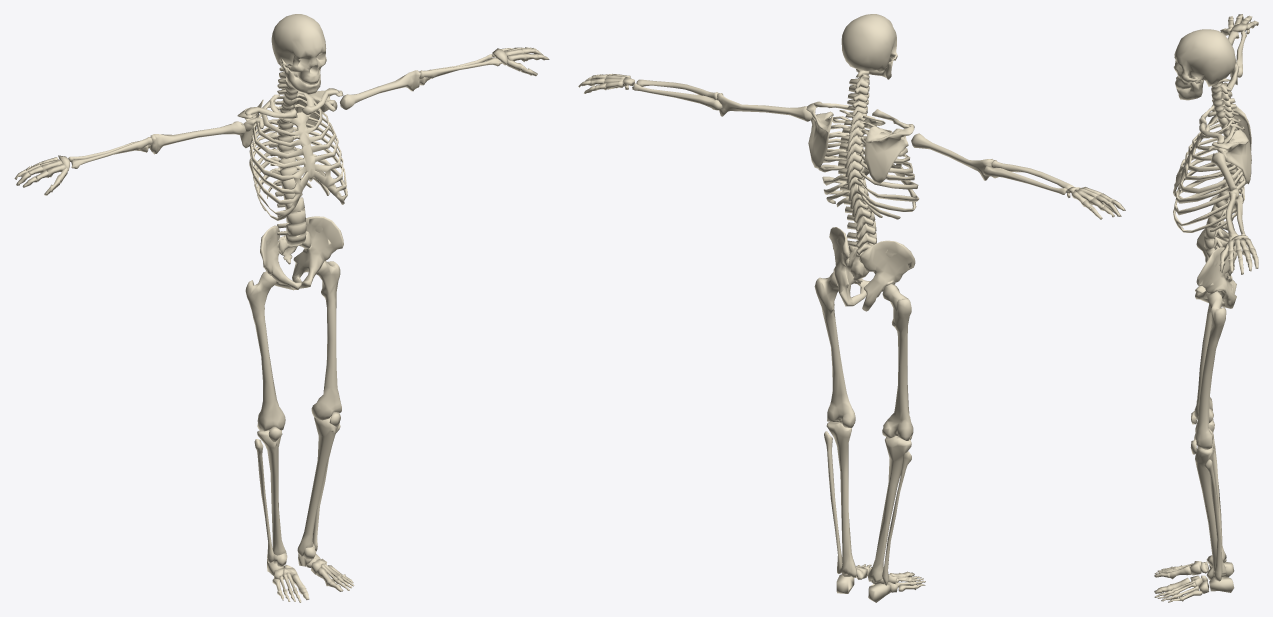
File: skeleton-mixamo.dae
The picture shows the model from 3 angles, left to right: view 1: azimuth 30°, elevation 25°; view 2: azimuth 150°, elevation 25°; view 3: azimuth 270°, elevation 25°; orthographic projection. The views are drawn at different scales.
Parts seen in each view (by area): view 1: Chest (×2), Hip (×2), Head, RightThigh, Left_Thigh_1, Left_Shin, Right_Shin_1, Abdomen, RightSho_3, LeftShou_0; view 2: Chest (×2), Hip (×2), Head, Left_Shin (×2), RightThigh, Left_Thigh_1, Right_Shin_1, RightCol_2, Abdomen, LeftCollar, LeftShou_0, RightSho_3 (+1 smaller); view 3: Chest (×2), Head, Left_Thigh_1, Left_Shin (×2), Hip (×2), LeftCollar (×2), Abdomen, Left_Hand (×4), Neck, RightThigh, LeftFore_1 (×2), Left_Foot (×2) (+7 smaller).
Boxes of the visible parts, x1,y1,x2,y2 form: Chest (×2): [249, 91, 347, 220]; Hip (×2): [260, 216, 343, 290]; Head: [271, 14, 326, 84]; RightThigh: [245, 271, 285, 431]; Left_Thigh_1: [311, 260, 341, 420]; Left_Shin: [297, 416, 339, 556]; Right_Shin_1: [257, 430, 286, 555]; Abdomen: [275, 191, 306, 245]; RightSho_3: [150, 121, 245, 154]; LeftShou_0: [340, 70, 420, 109]; Chest (×2): [818, 110, 919, 216]; Hip (×2): [829, 227, 915, 311]; Head: [841, 14, 897, 72]; Left_Shin (×2): [824, 421, 856, 577]; RightThigh: [882, 283, 913, 440]; Left_Thigh_1: [814, 272, 855, 427]; Right_Shin_1: [868, 436, 911, 581]; RightCol_2: [864, 124, 914, 183]; Abdomen: [845, 206, 876, 255]; LeftCollar: [806, 101, 833, 168]; LeftShou_0: [716, 93, 812, 121]; RightSho_3: [911, 133, 993, 180]; Chest (×2): [1173, 109, 1251, 232]; Head: [1173, 29, 1235, 89]; Left_Thigh_1: [1194, 291, 1226, 449]; Left_Shin (×2): [1195, 443, 1226, 581]; Hip (×2): [1195, 228, 1236, 308]; LeftCollar (×2): [1199, 123, 1251, 184]; Abdomen: [1204, 204, 1233, 258]; Left_Hand (×4): [1228, 238, 1258, 274]; Neck: [1211, 78, 1238, 118]; RightThigh: [1194, 304, 1213, 422]; LeftFore_1 (×2): [1226, 193, 1245, 240]; Left_Foot (×2): [1154, 576, 1234, 593].
Size of the model in its own units: 72.17 by 12.51 by 73.13.
